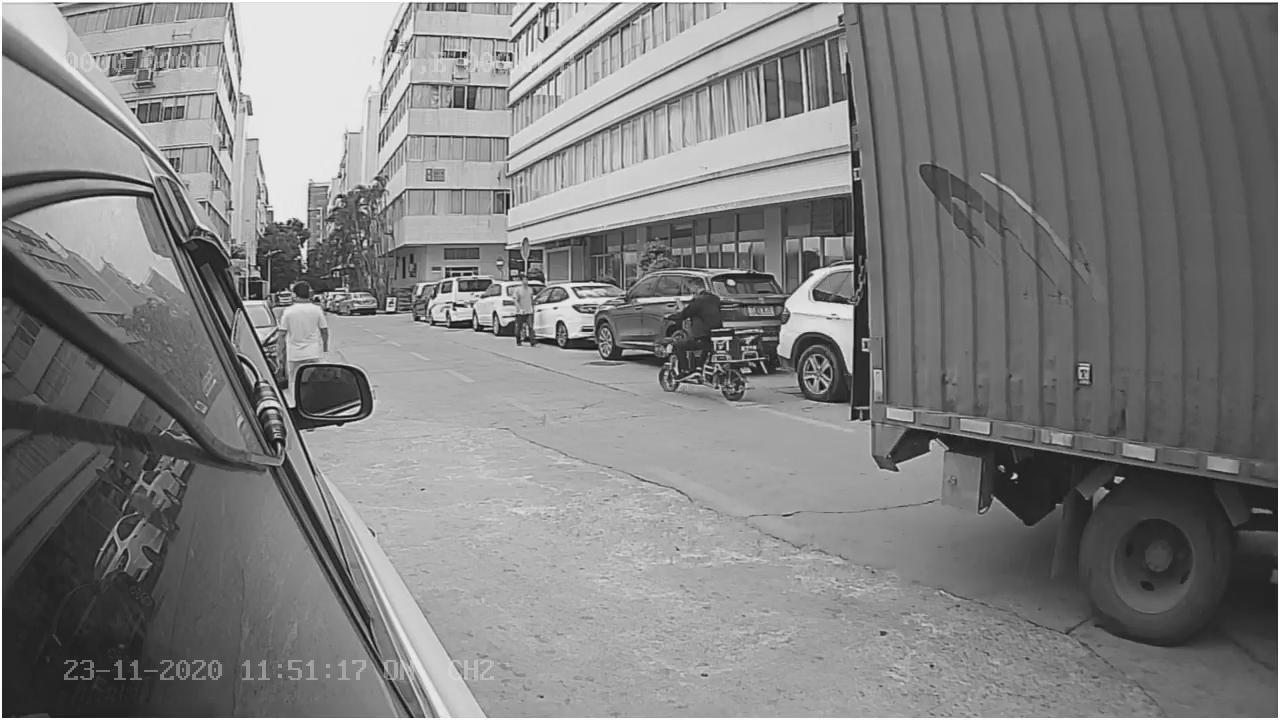person: (658, 270, 728, 329)
